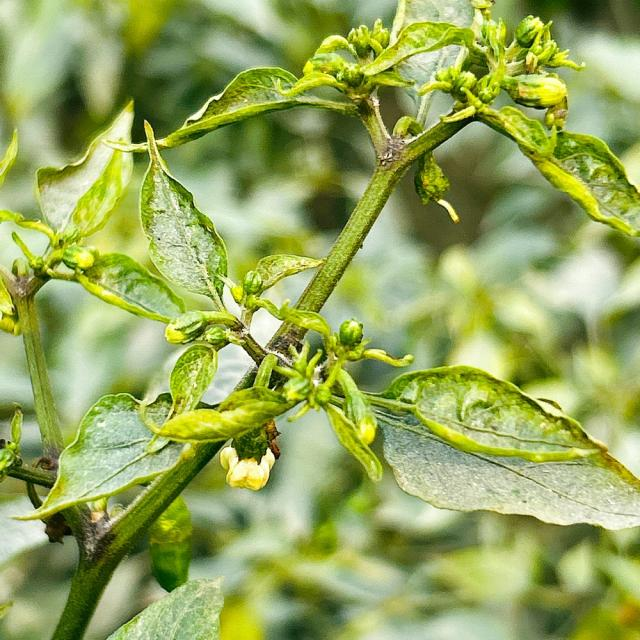Chilli_Leaf_Curl: (1, 1, 638, 634), (369, 363, 639, 530), (12, 390, 188, 524), (476, 102, 638, 239), (137, 119, 229, 309), (159, 65, 360, 149), (33, 97, 136, 250), (104, 575, 226, 638)
